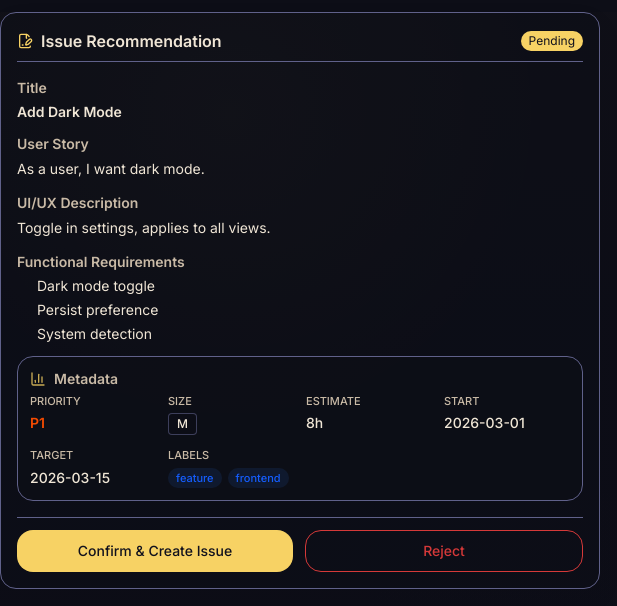
Test: IssueRecommendationPreview › calls onConfirm and shows success state
Step 1. Click the button "Confirm & Create Issue" → (155, 551), box [17,530,293,572]
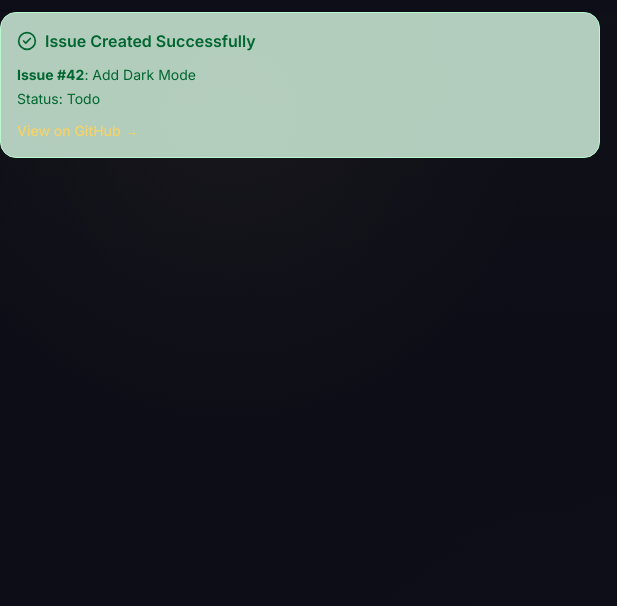
Result: the heading "Issue Created Successfully" is shown at [45,29,256,53]
Result: the text "Issue #42" is shown at [17,66,84,83]
